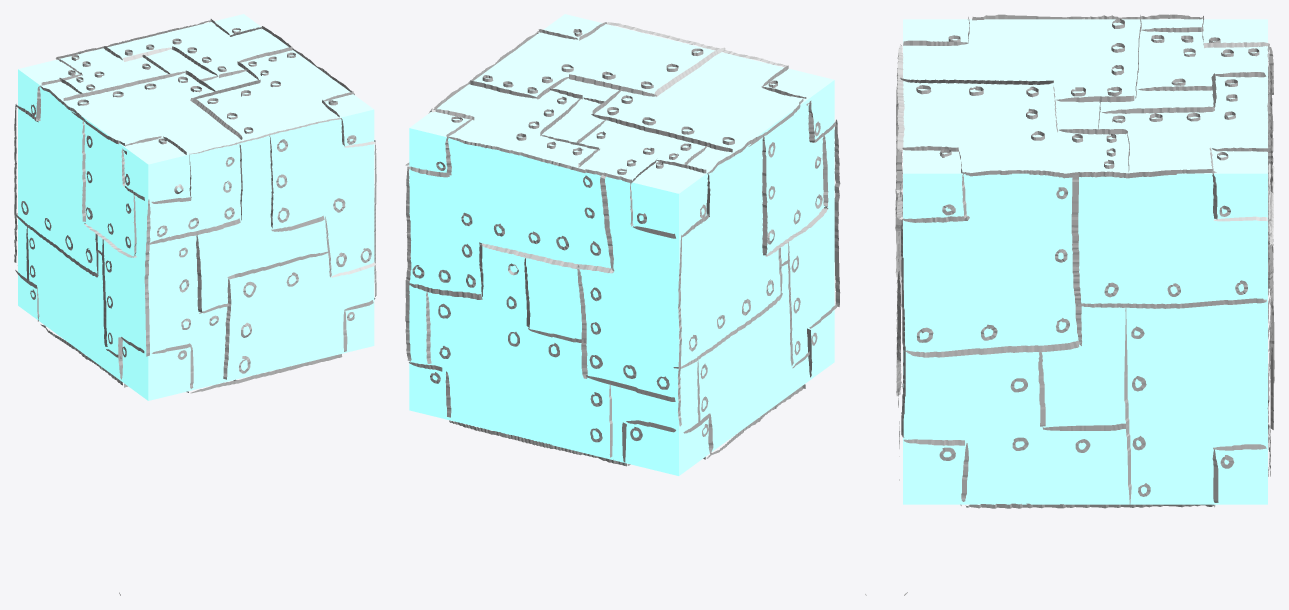
3 views of the same model, side by side, from view 1: azimuth 30°, elevation 25°; view 2: azimuth 150°, elevation 25°; view 3: azimuth 270°, elevation 25° (orthographic). The views are drawn at different scales.
Visible parts, largest first — view 1: Cube, GP_Layer; view 2: Cube, GP_Layer; view 3: Cube, GP_Layer.
Part boxes in pixels (<box>): Cube: <box>18,14,374,400</box>; GP_Layer: <box>14,19,376,595</box>; Cube: <box>409,14,834,475</box>; GP_Layer: <box>405,22,866,595</box>; Cube: <box>903,19,1267,504</box>; GP_Layer: <box>895,14,1274,595</box>.
Bounding box in the file's own units: 307 × 491 × 281.
